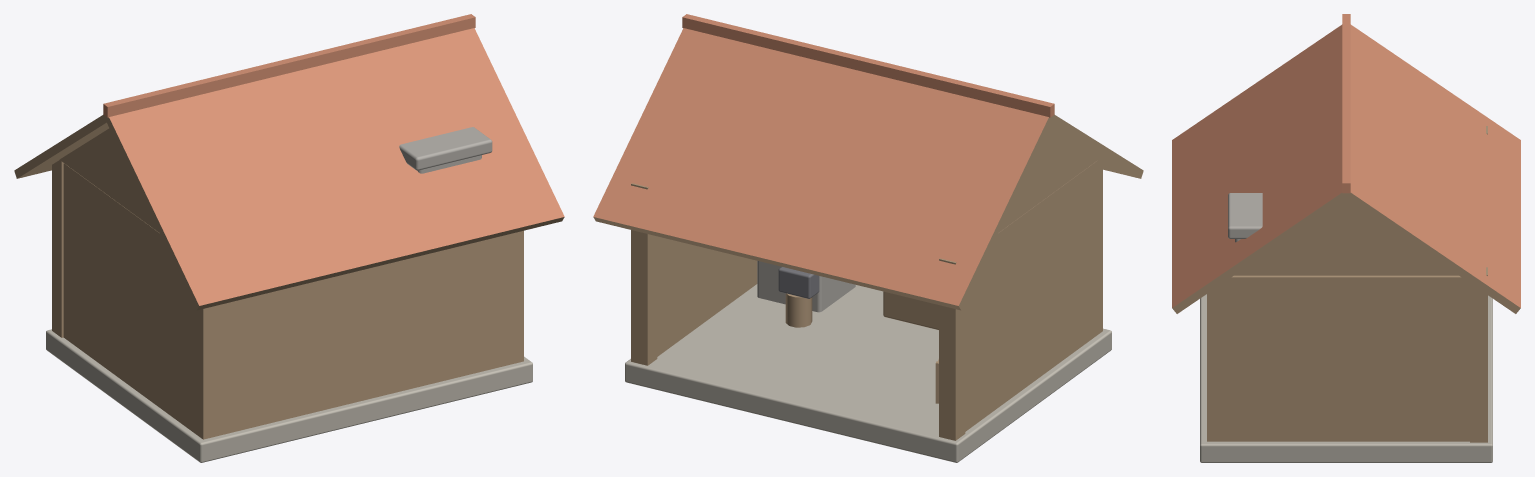
The model's file is workshop_shed.glb.
3 views of the same model, side by side, from view 1: azimuth 30°, elevation 25°; view 2: azimuth 150°, elevation 25°; view 3: azimuth 270°, elevation 25° (orthographic). The views are drawn at different scales.
Parts seen in each view (by area): view 1: Workshop; view 2: Workshop; view 3: Workshop.
Boxes of the visible parts, left/top/right/bottom form: Workshop: left=14, top=14, right=564, bottom=462; Workshop: left=593, top=14, right=1143, bottom=462; Workshop: left=1172, top=14, right=1520, bottom=462.
Size of the model in its own units: 5.74 by 4.56 by 5.
